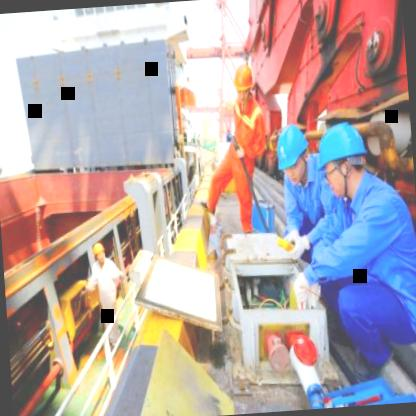helmet: (312, 115, 373, 202), (276, 122, 314, 186), (230, 60, 258, 110), (90, 240, 107, 265)
